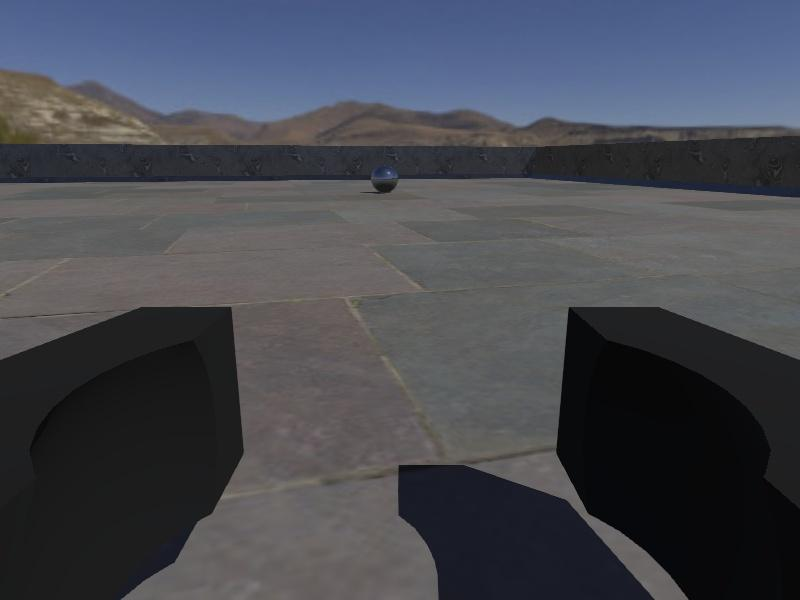steel ball: (370, 163, 399, 194)
